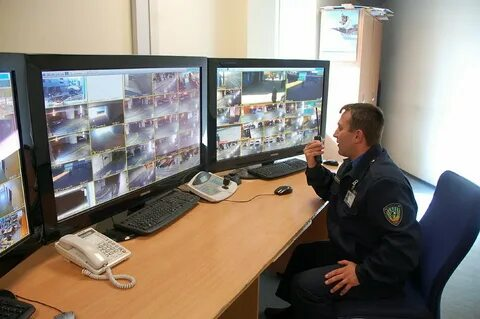awake: (261, 102, 424, 318)
